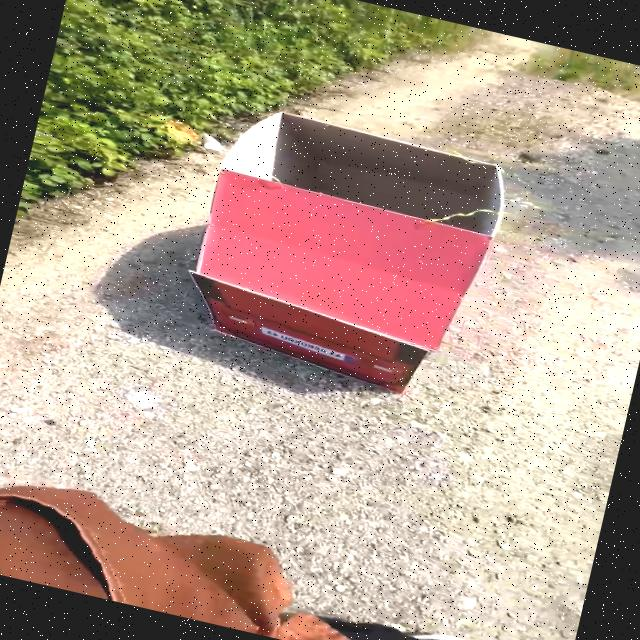red_car: (138, 57, 555, 416)
